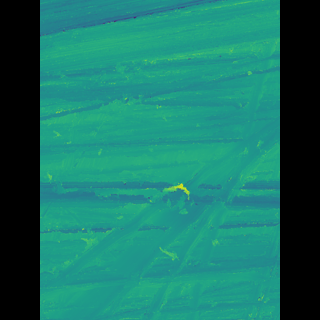Loch: (69, 100, 249, 320)
